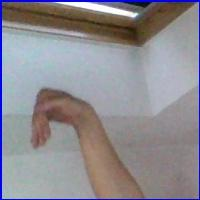del: (25, 86, 98, 156)
